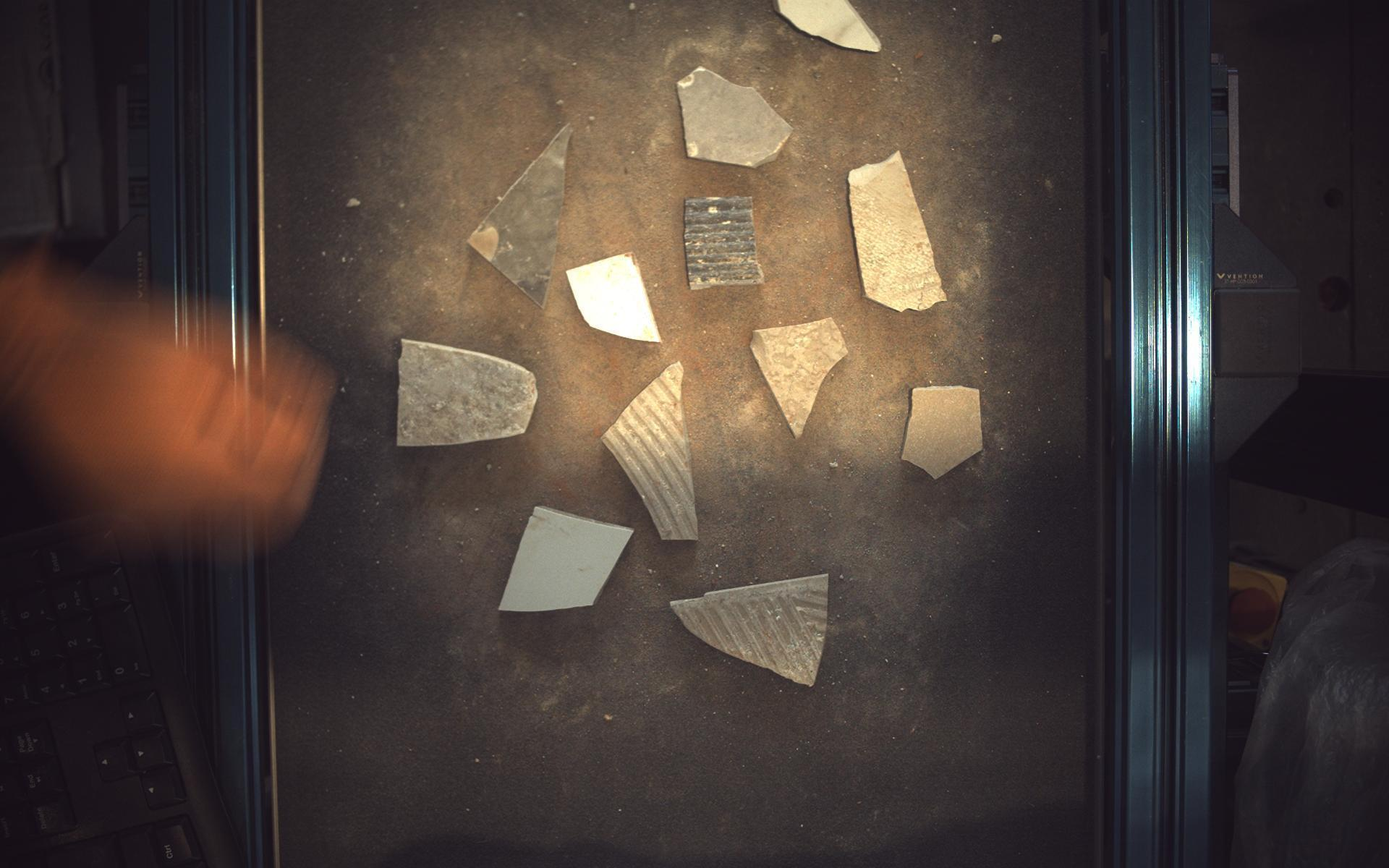tile: (468, 122, 572, 306), (671, 575, 829, 687), (602, 362, 699, 540), (850, 150, 948, 310), (396, 339, 538, 446), (499, 507, 634, 613), (752, 318, 849, 438), (678, 66, 794, 166), (567, 253, 662, 342), (904, 386, 985, 480), (685, 195, 765, 289), (778, 1, 883, 51)
